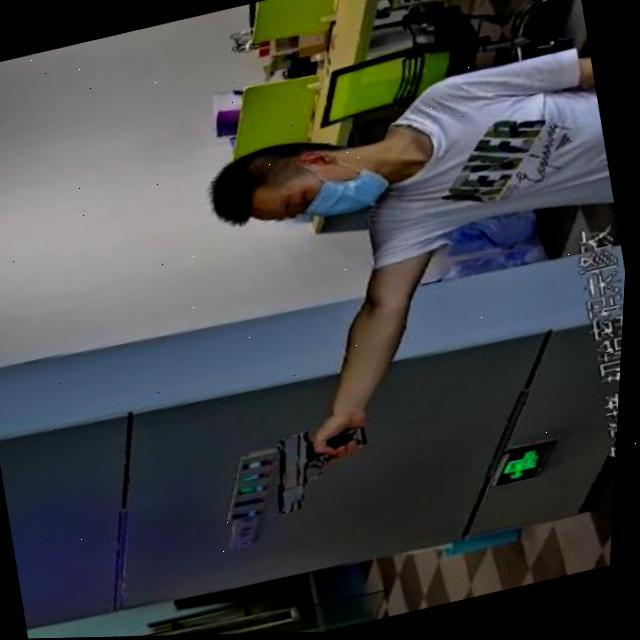gun: (254, 406, 408, 524)
